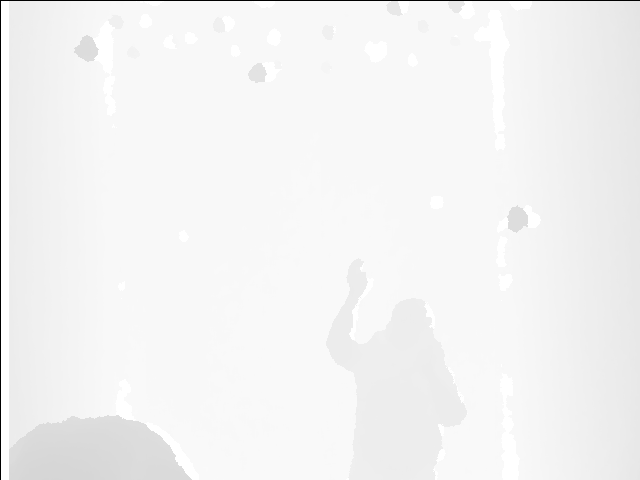hand: (344, 258, 372, 298)
